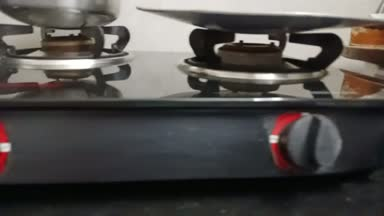noflame_gason: (186, 25, 368, 174)
